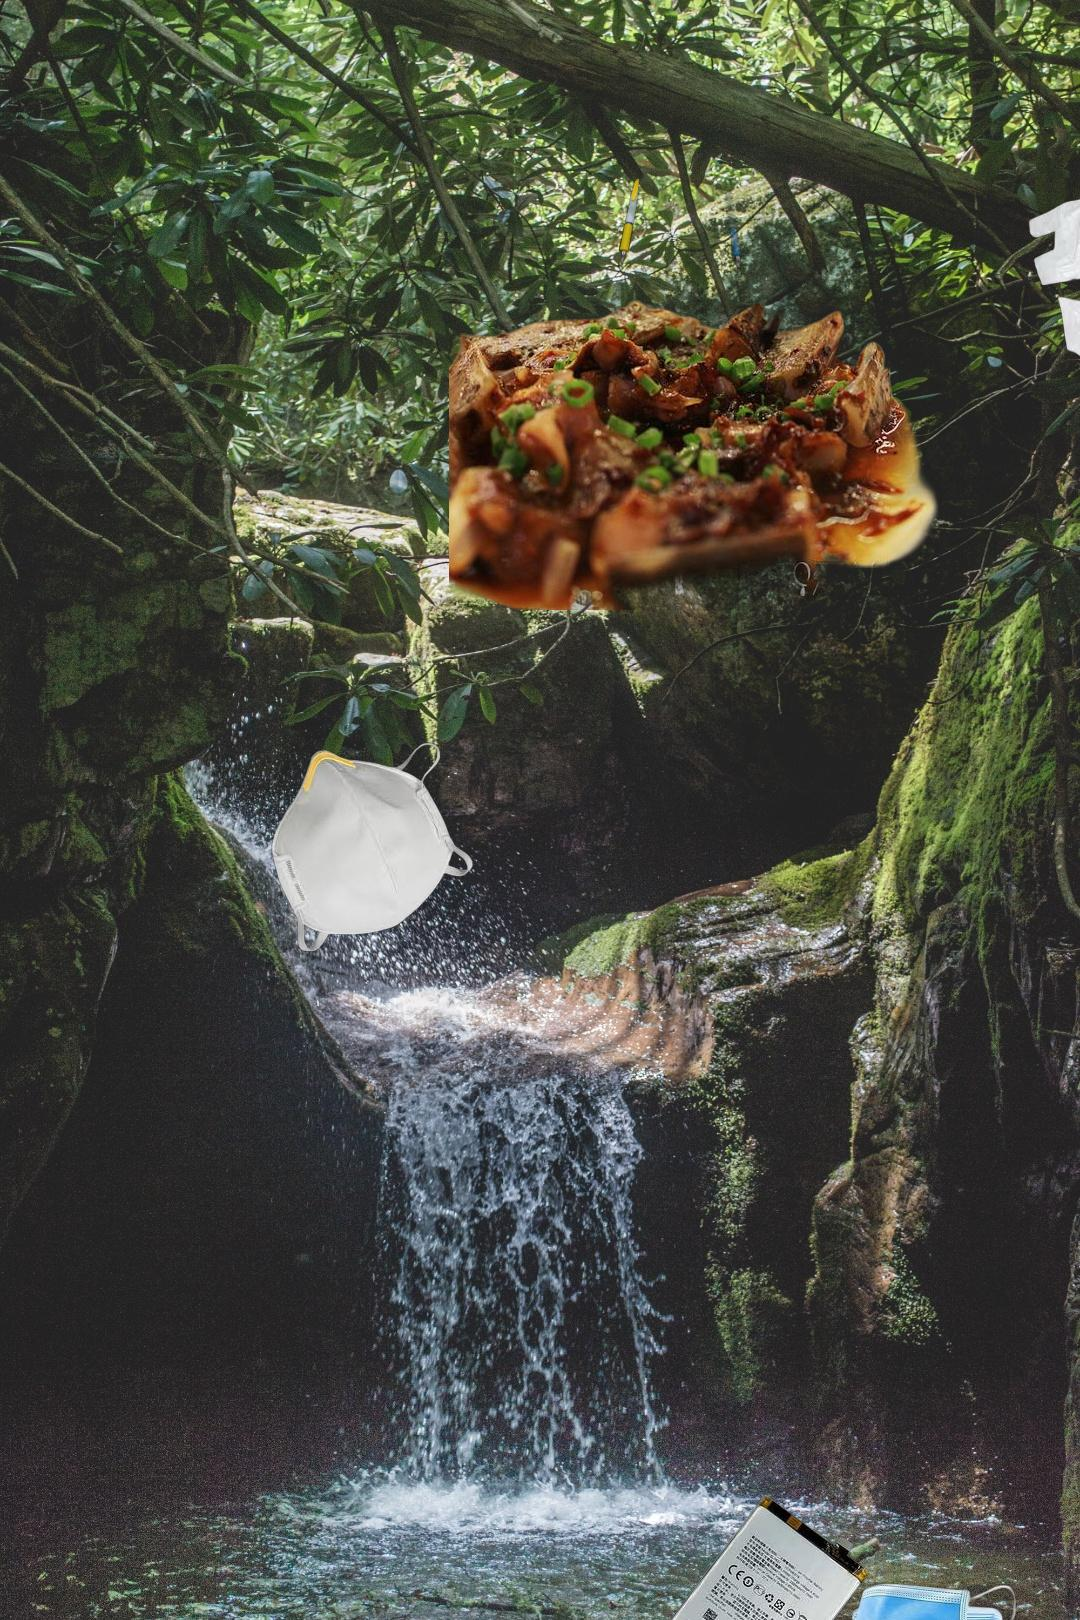battery: (661, 1493, 871, 1620)
biological: (450, 258, 953, 610)
penholder: (612, 151, 757, 278)
trash: (239, 741, 475, 953), (1026, 163, 1080, 382), (847, 1571, 1019, 1620)
